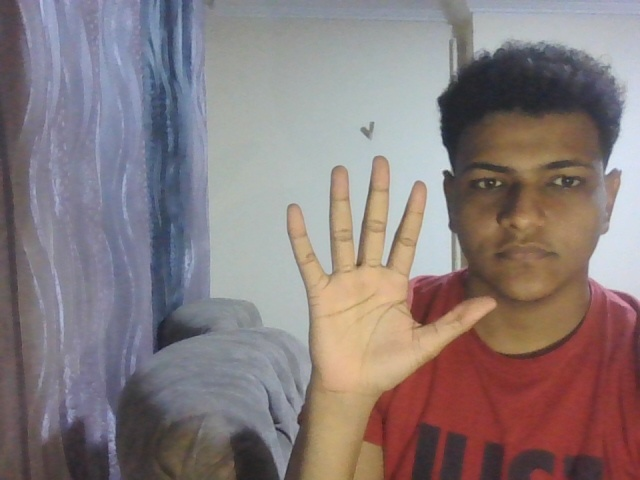Hello: (282, 150, 500, 401)
